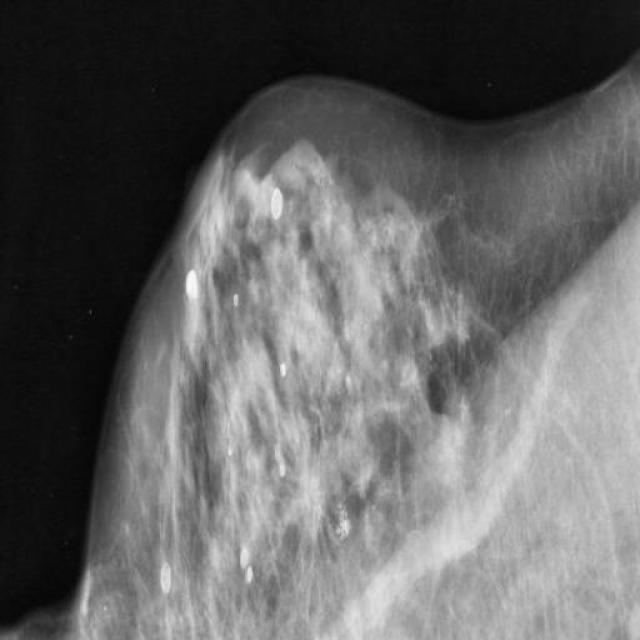cancer: (283, 434, 329, 555)
